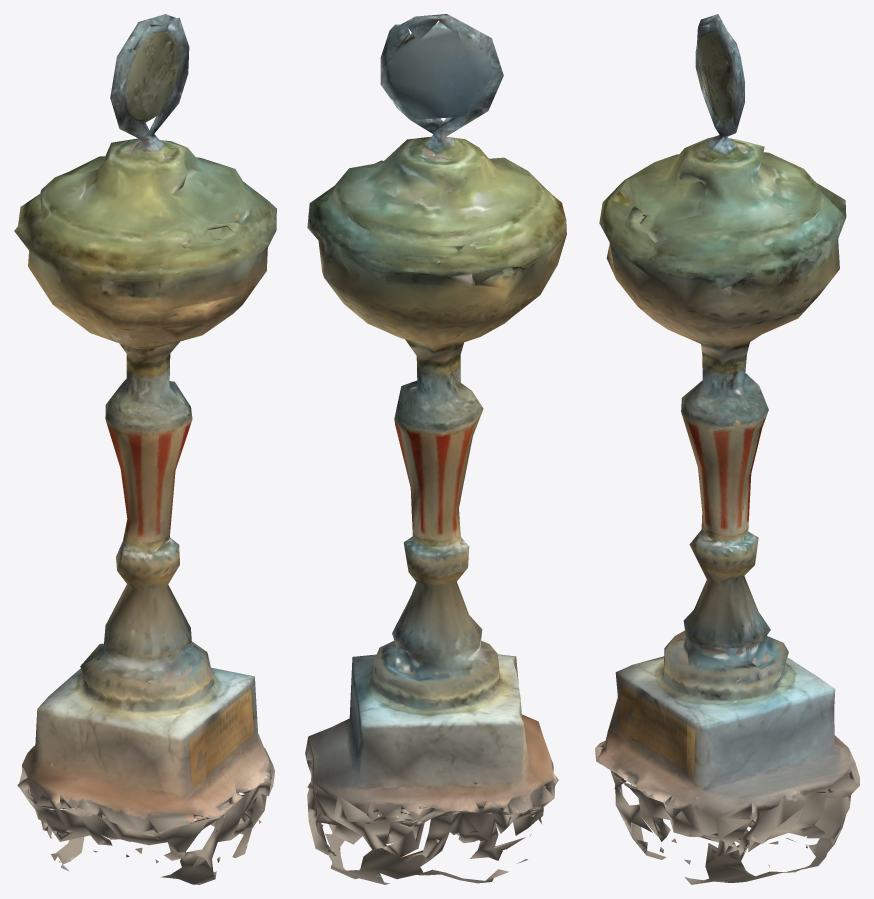
The model's file is mesh_trofeo_highpoly_optimized.obj.
3 views of the same model, side by side, from view 1: azimuth 30°, elevation 25°; view 2: azimuth 150°, elevation 25°; view 3: azimuth 270°, elevation 25° (orthographic). The views are drawn at different scales.
Visible parts, largest first — view 1: mesh_trofeo_highpoly_optimized; view 2: mesh_trofeo_highpoly_optimized; view 3: mesh_trofeo_highpoly_optimized.
Part boxes in pixels (<box>): mesh_trofeo_highpoly_optimized: <box>14,14,276,884</box>; mesh_trofeo_highpoly_optimized: <box>305,14,566,884</box>; mesh_trofeo_highpoly_optimized: <box>595,14,859,884</box>.
Size of the model in its own units: 0.9587 by 3.24 by 0.939.
Materials: 1 (1 with a texture image).
